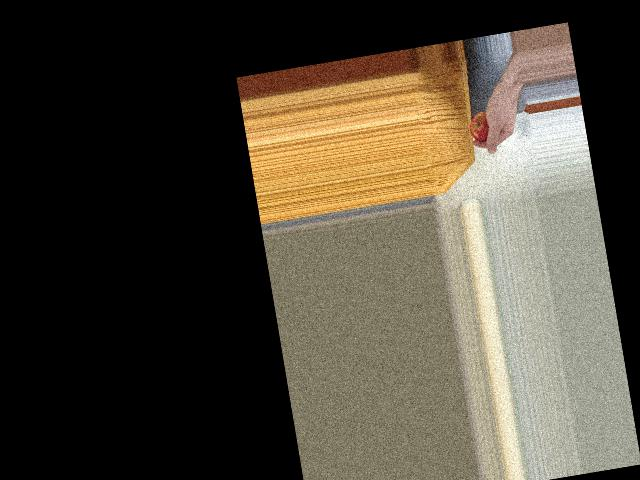apple: (466, 109, 497, 145)
